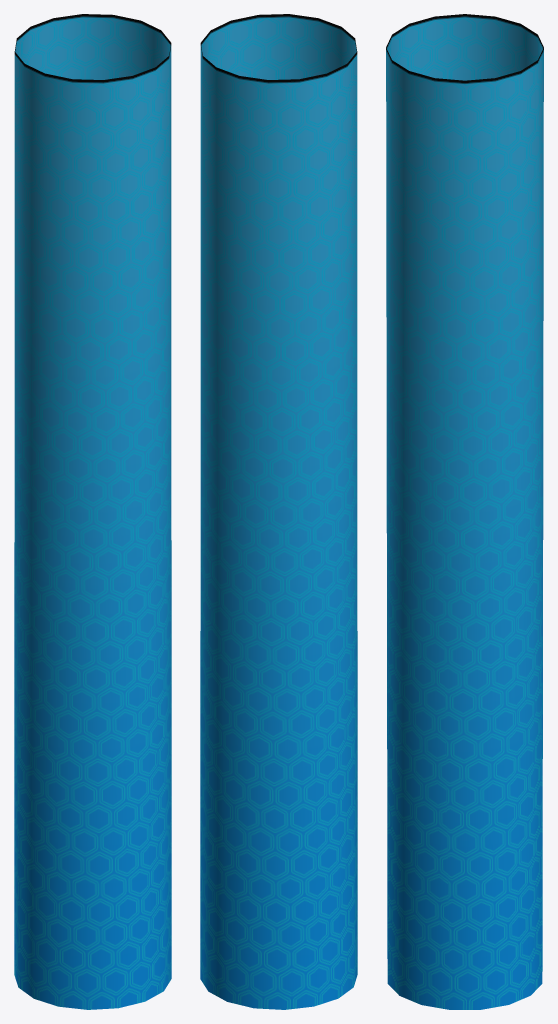
Rendered from exitDoorOpen.obj.
3 renders of one model, left to right at view 1: azimuth 30°, elevation 25°; view 2: azimuth 150°, elevation 25°; view 3: azimuth 270°, elevation 25°, orthographic.
Parts seen in each view (by area): view 1: Shield; view 2: Shield; view 3: Shield.
Part boxes in pixels (left/top/right/bottom): Shield: left=14, top=14, right=171, bottom=1009; Shield: left=200, top=14, right=357, bottom=1009; Shield: left=386, top=14, right=543, bottom=1009.
Size of the model in its own units: 3.4 by 22.08 by 3.4.
Materials: 1 (1 with a texture image).
